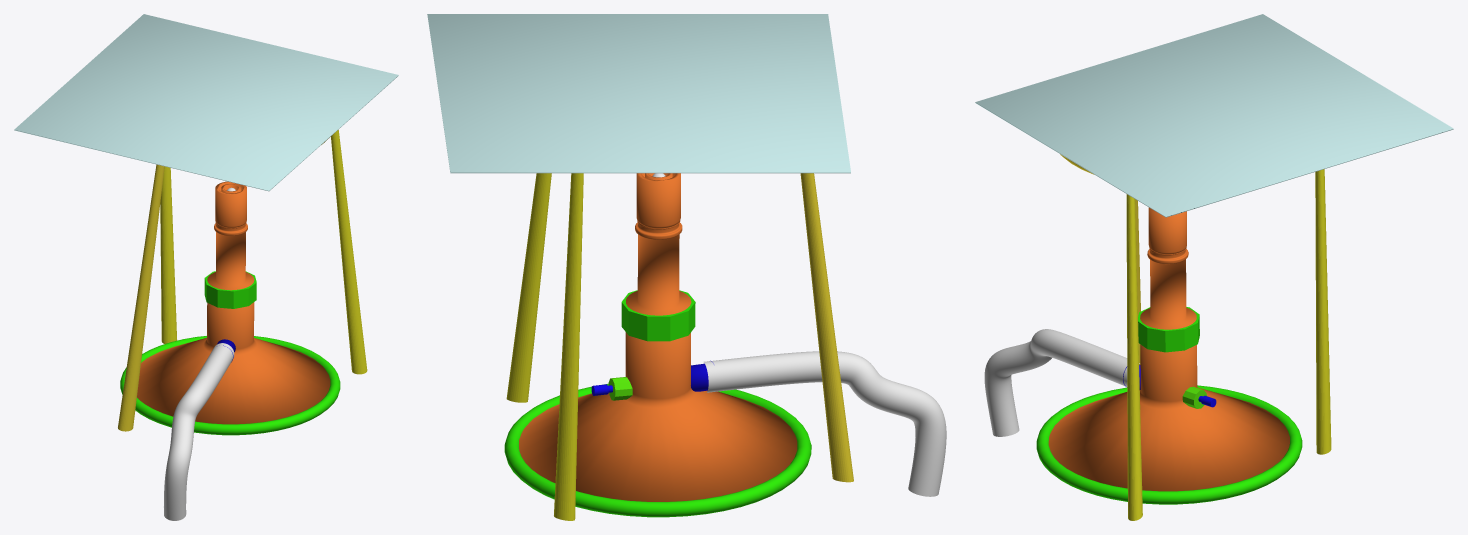
Rendered from newbunsenNov19.glb.
3 views of the same model, side by side, from view 1: azimuth 30°, elevation 25°; view 2: azimuth 150°, elevation 25°; view 3: azimuth 270°, elevation 25° (orthographic). The views are drawn at different scales.
Parts seen in each view (by area): view 1: top-Plane, busernburner.007, ring-stand; view 2: top-Plane, busernburner.007, ring-stand; view 3: top-Plane, busernburner.007, ring-stand.
Boxes of the visible parts, left/top/right/bottom form: top-Plane: left=14, top=14, right=398, bottom=191; busernburner.007: left=120, top=181, right=340, bottom=520; ring-stand: left=118, top=130, right=367, bottom=431; top-Plane: left=427, top=14, right=850, bottom=173; busernburner.007: left=504, top=173, right=946, bottom=517; ring-stand: left=506, top=173, right=853, bottom=520; top-Plane: left=975, top=14, right=1453, bottom=217; busernburner.007: left=984, top=207, right=1302, bottom=504; ring-stand: left=1060, top=154, right=1331, bottom=520.
Size of the model in its own units: 0.1969 by 0.1797 by 0.1964.
